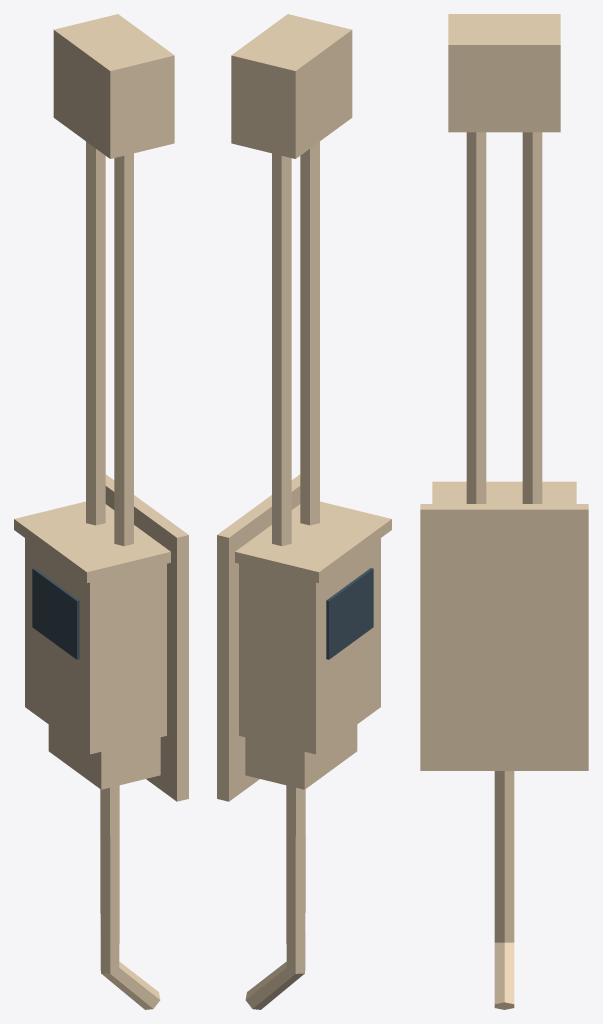
Rendered from SM_Fixture_ElecMeter_L_01.gltf.
3 renders of one model, left to right at view 1: azimuth 30°, elevation 25°; view 2: azimuth 150°, elevation 25°; view 3: azimuth 270°, elevation 25°, orthographic.
Visible parts, largest first — view 1: SM_Fixture_ElecMeter_L_01; view 2: SM_Fixture_ElecMeter_L_01; view 3: SM_Fixture_ElecMeter_L_01.
Boxes of the visible parts, x1,y1,x2,y2 form: SM_Fixture_ElecMeter_L_01: [14, 14, 188, 1009]; SM_Fixture_ElecMeter_L_01: [217, 14, 391, 1009]; SM_Fixture_ElecMeter_L_01: [420, 14, 588, 1009].
Bounding box in the file's own units: 0.1549 × 1.33 × 0.21.
Materials: 1 (1 with a texture image).
